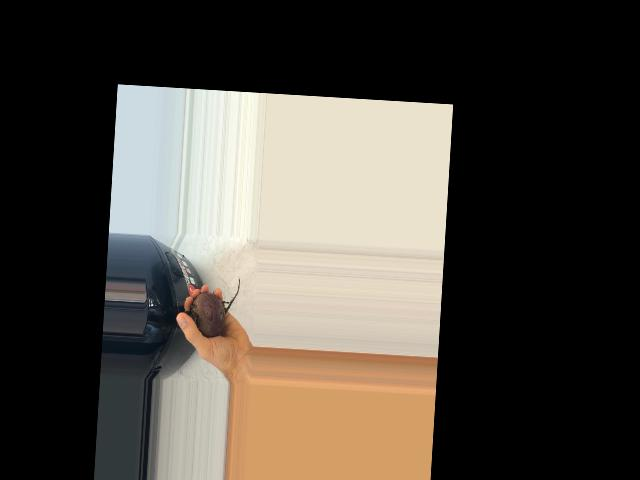beet: (183, 273, 240, 338)
